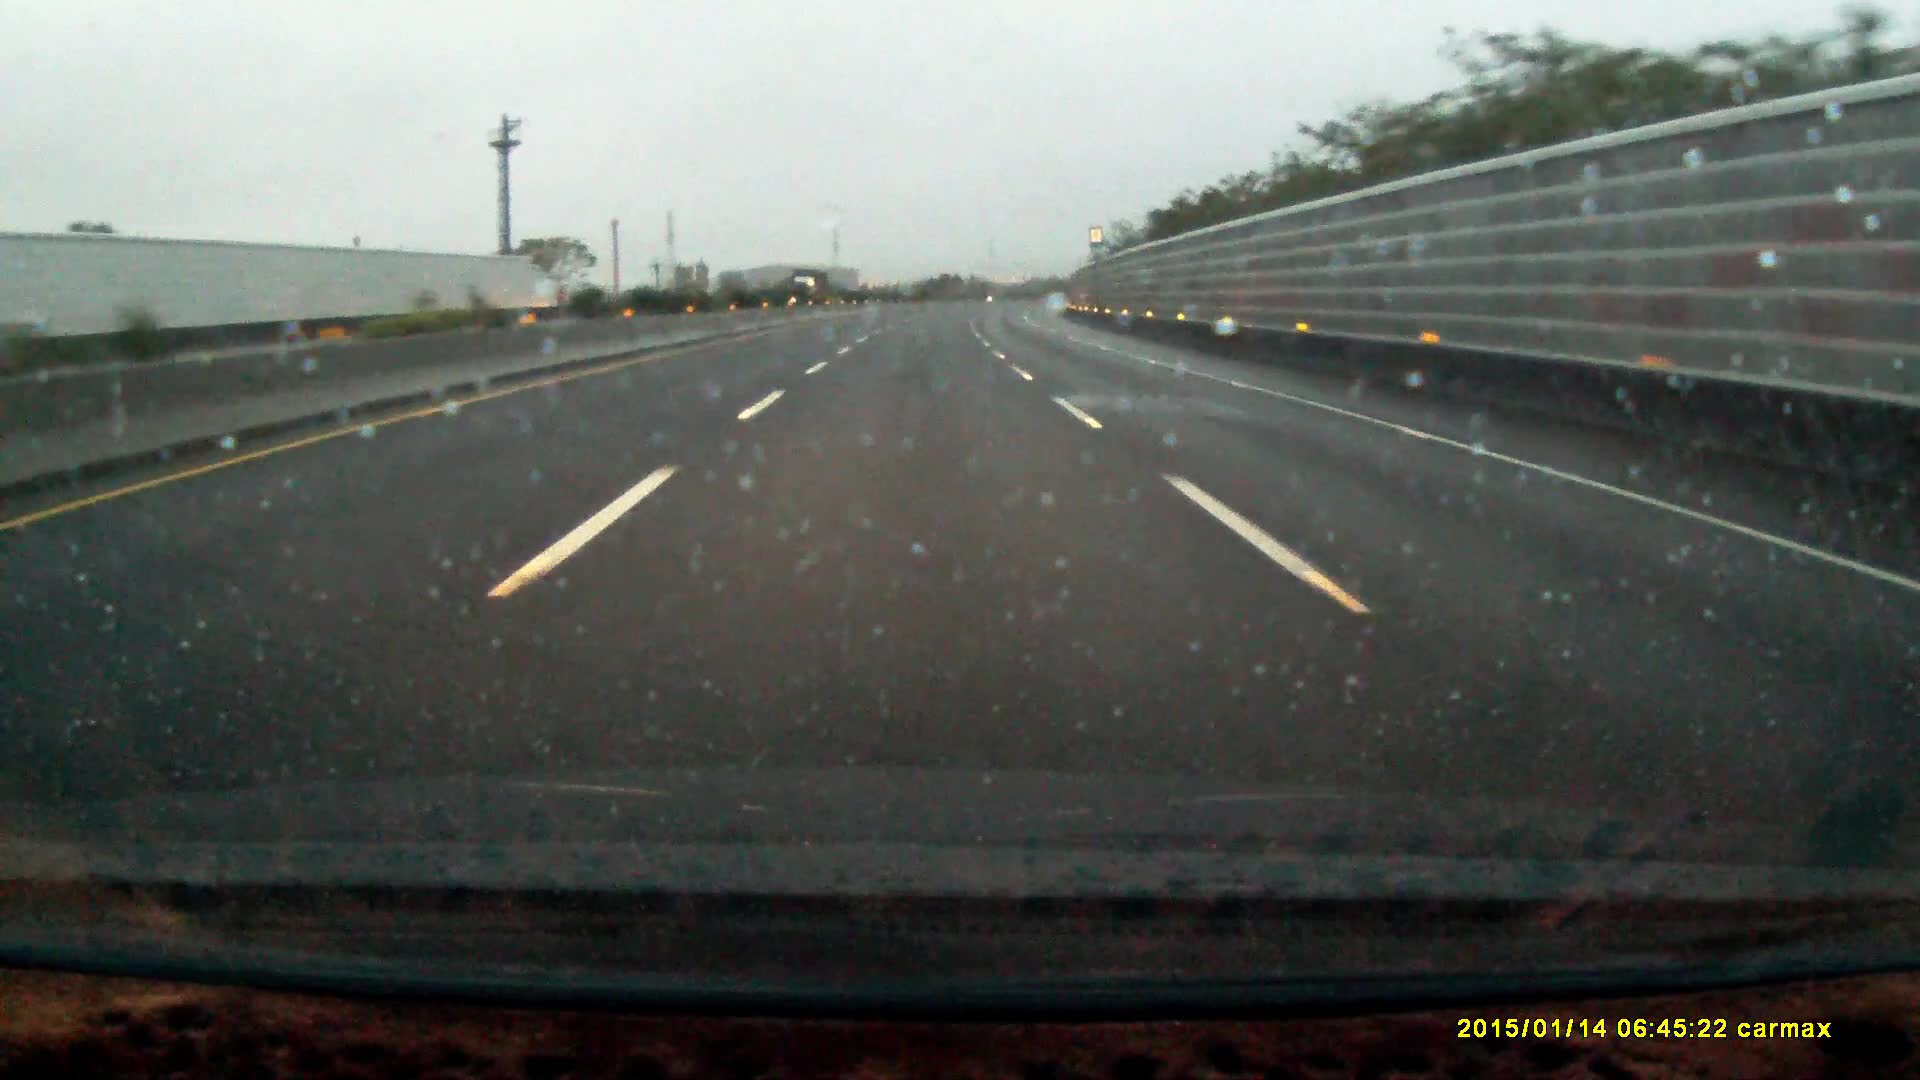vehicle: (791, 268, 829, 303)
